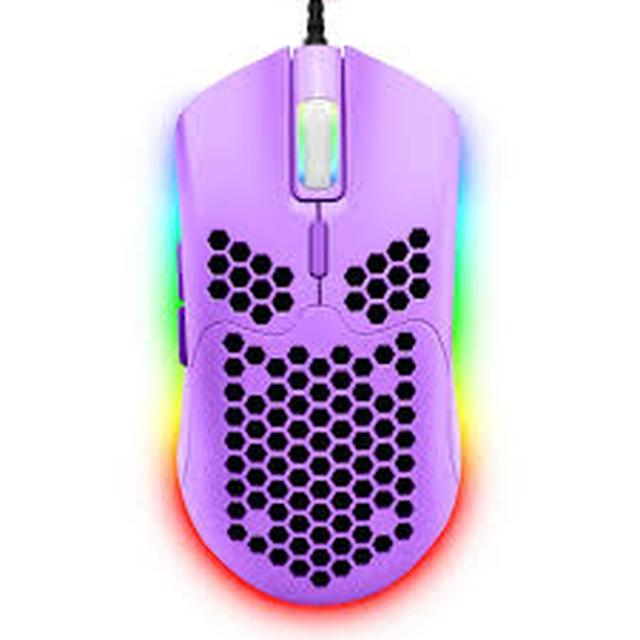mouse: (164, 9, 471, 608)
